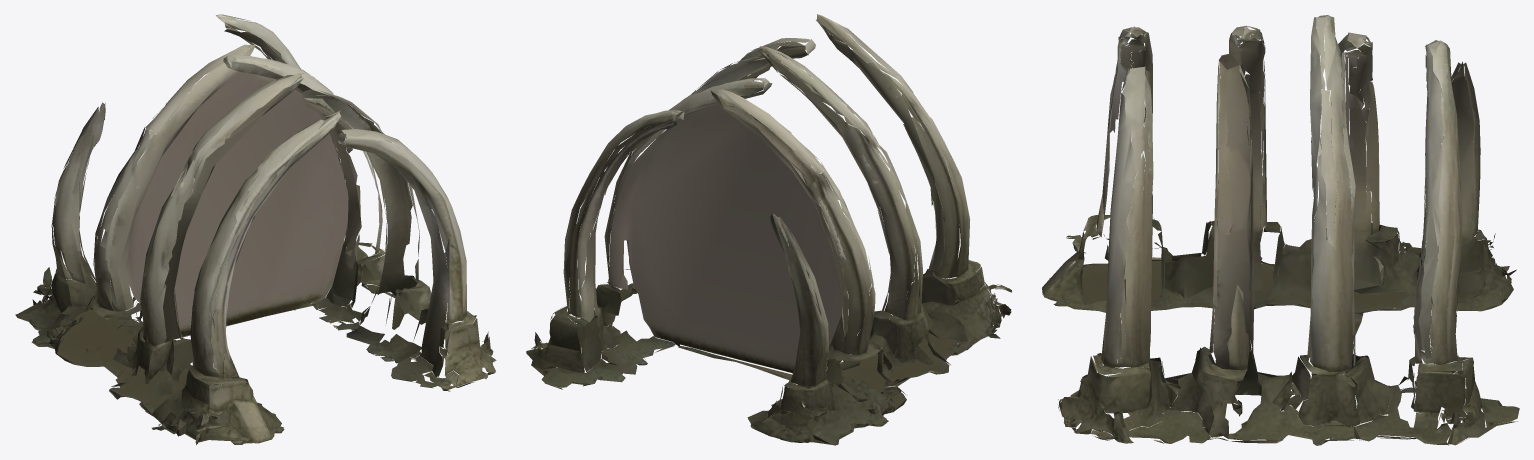
Rendered from boneRibs.glb.
3 views of the same model, side by side, from view 1: azimuth 30°, elevation 25°; view 2: azimuth 150°, elevation 25°; view 3: azimuth 270°, elevation 25° (orthographic). The views are drawn at different scales.
Visible parts, largest first — view 1: Prop_boneRibs; view 2: Prop_boneRibs; view 3: Prop_boneRibs.
Part boxes in pixels (bbox=[...]): Prop_boneRibs: bbox=[15, 14, 496, 444]; Prop_boneRibs: bbox=[526, 14, 1011, 445]; Prop_boneRibs: bbox=[1042, 15, 1519, 445].
Size of the model in its own units: 3.61 by 2.83 by 3.7.
1 material, 1 textured.
